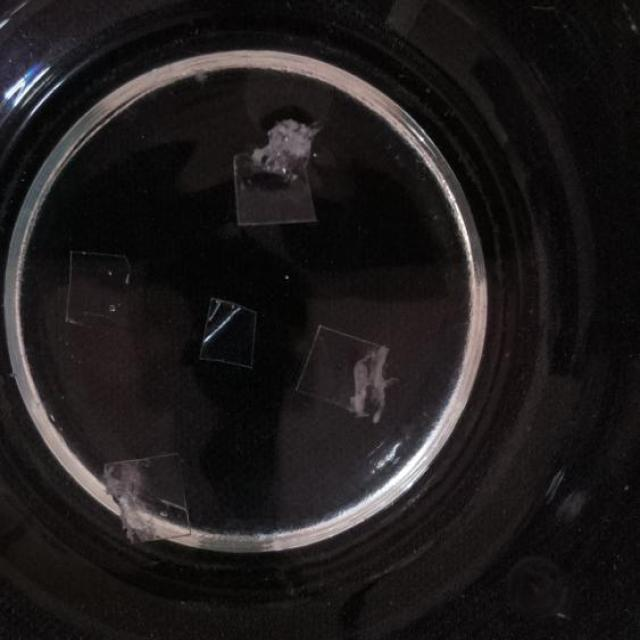fiber: (296, 326, 391, 419), (105, 463, 192, 542), (233, 148, 316, 228), (66, 253, 133, 330), (255, 118, 318, 183), (198, 300, 256, 370), (505, 558, 568, 616), (386, 0, 427, 40), (552, 482, 591, 517), (195, 64, 208, 86)
